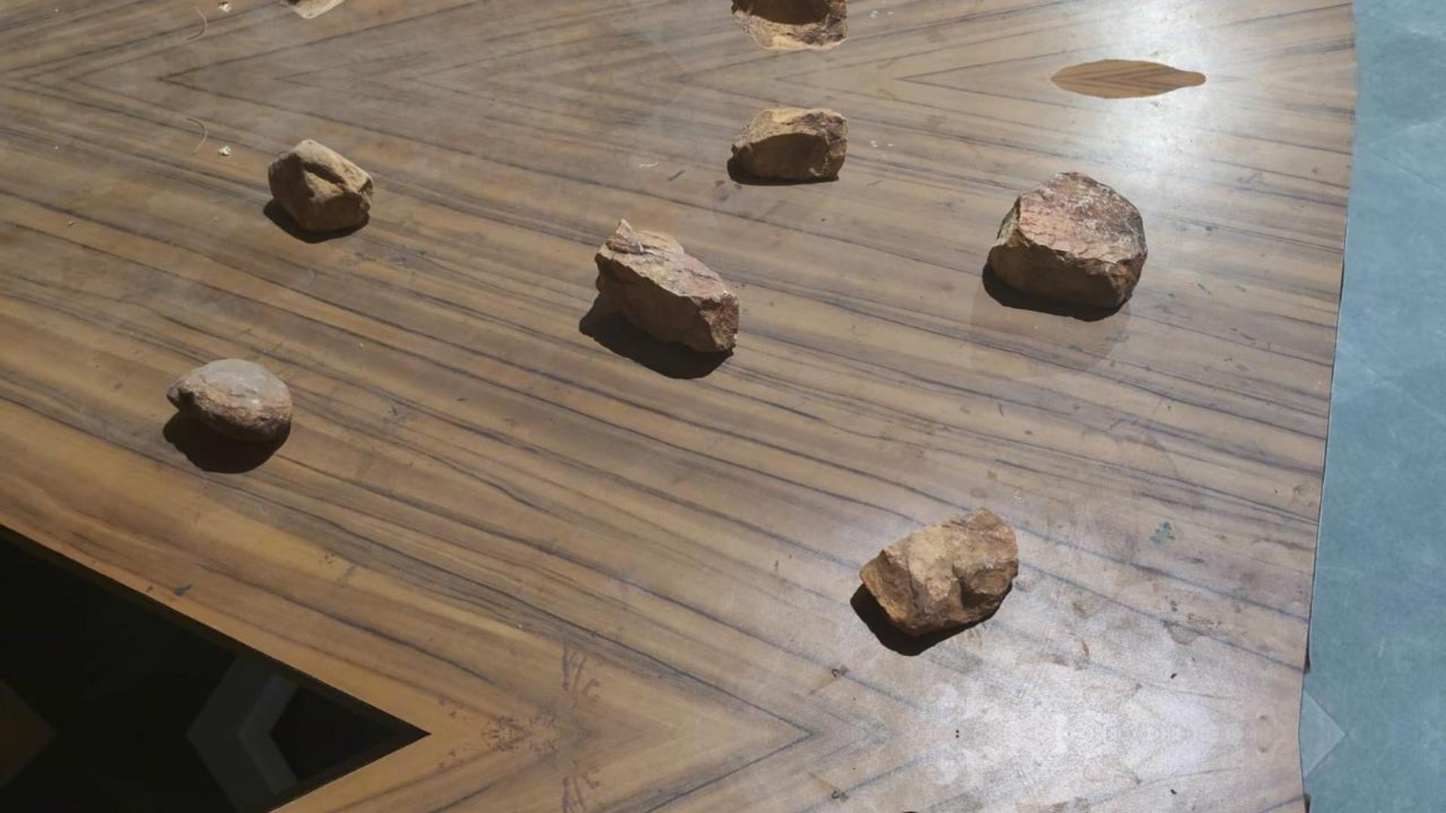rock: (984, 172, 1146, 309), (861, 508, 1017, 635), (594, 219, 738, 351), (166, 358, 291, 440), (268, 139, 372, 231), (729, 107, 846, 183), (731, 0, 846, 50), (286, 0, 343, 18)
